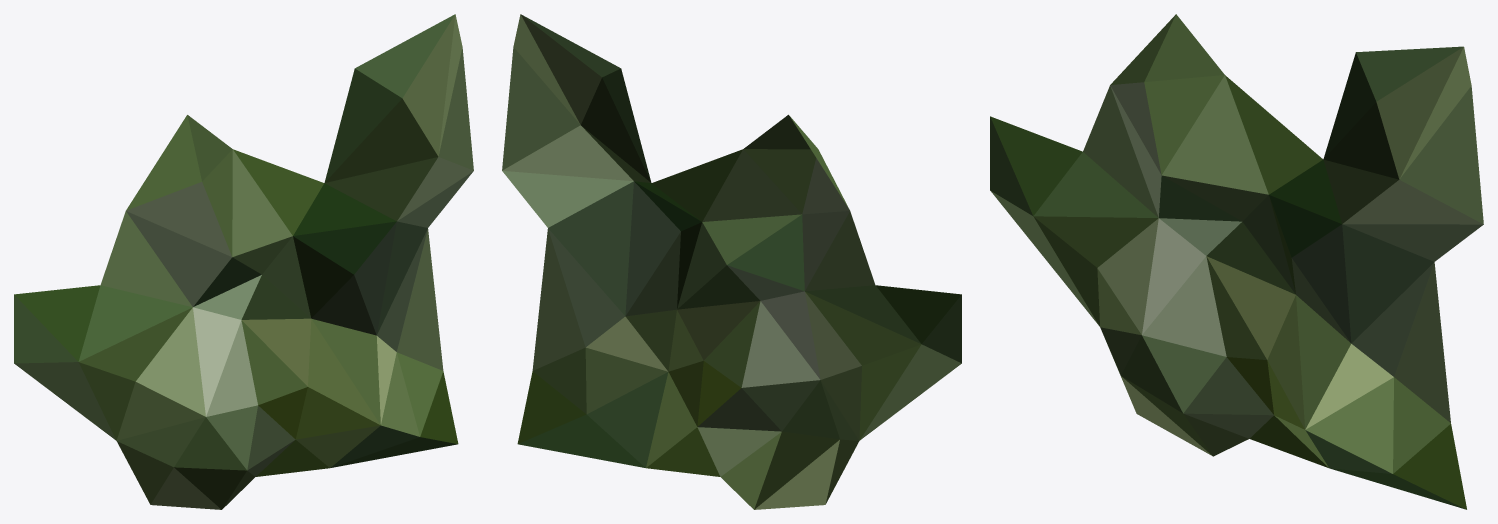
Rendered from Decal_Ivy-A.fbx.
The picture shows the model from 3 angles, left to right: view 1: azimuth 30°, elevation 25°; view 2: azimuth 150°, elevation 25°; view 3: azimuth 330°, elevation 25°; orthographic projection. The views are drawn at different scales.
Visible parts, largest first — view 1: Decal_Ivy-A; view 2: Decal_Ivy-A; view 3: Decal_Ivy-A.
Boxes of the visible parts, bbox=[...] form: Decal_Ivy-A: bbox=[14, 14, 473, 509]; Decal_Ivy-A: bbox=[502, 14, 961, 509]; Decal_Ivy-A: bbox=[990, 14, 1483, 509].
Size of the model in its own units: 278 by 253 by 38.36.
